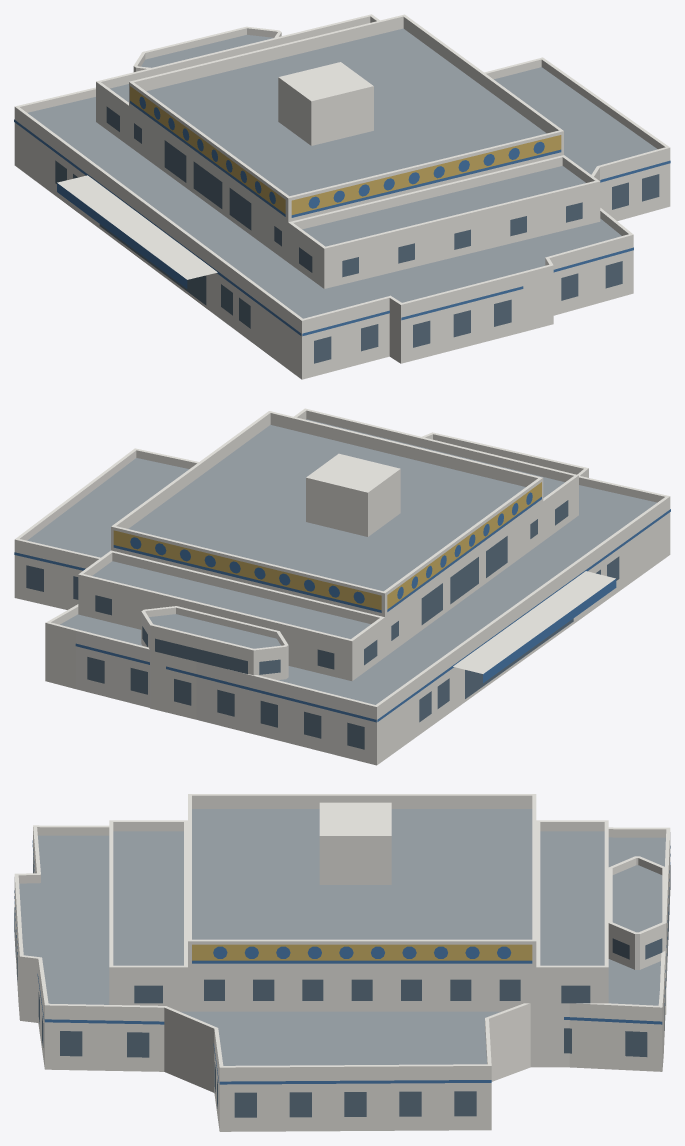
Rendered from mia-miami-city-hall.glb.
3 views of the same model, one above another, from view 1: azimuth 30°, elevation 25°; view 2: azimuth 150°, elevation 25°; view 3: azimuth 270°, elevation 25° (orthographic). The views are drawn at different scales.
Visible parts, largest first — view 1: Miami City Hall; view 2: Miami City Hall; view 3: Miami City Hall.
Boxes of the visible parts, x1,y1,x2,y2 form: Miami City Hall: (14,14,670,379); Miami City Hall: (14,408,670,765); Miami City Hall: (14,794,670,1131).
Size of the model in its own units: 46.53 by 13.6 by 50.
